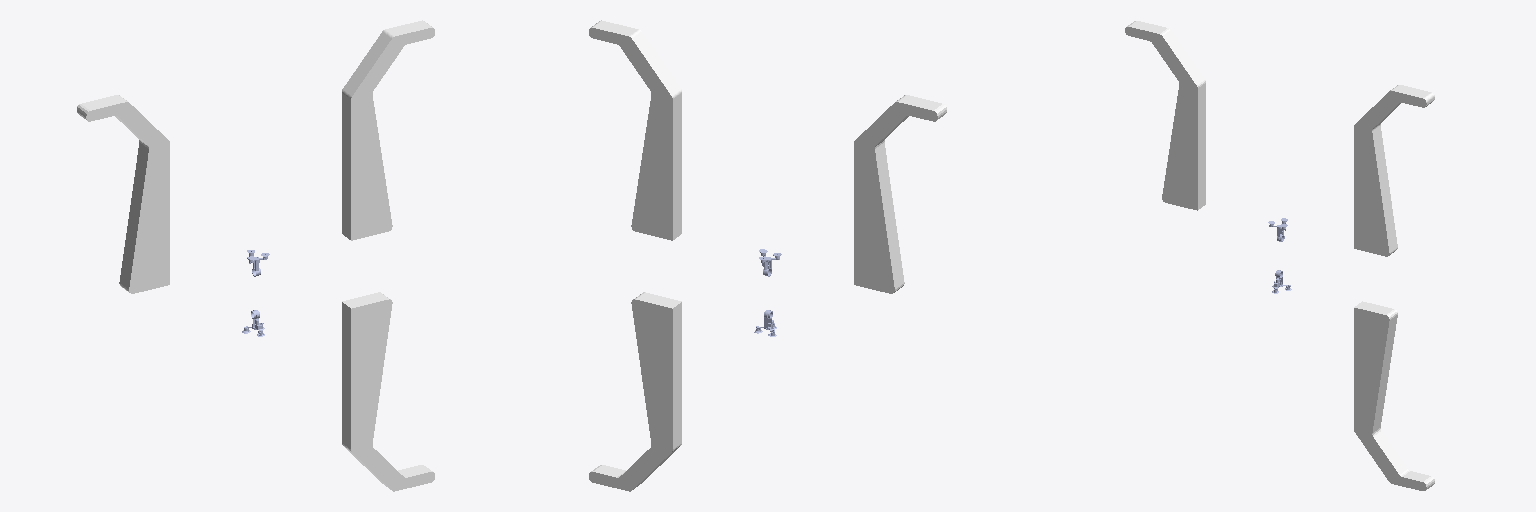
robot.urdf — bigmama0412fine:
<?xml version="1.0" encoding="utf-8"?>
<!-- This URDF was automatically created by SolidWorks to URDF Exporter! Originally created by [author] ([email redacted]) 
     Commit Version: 1.6.0-1-g15f4949  Build Version: 1.6.7594.29634
     For more information, please see http://wiki.ros.org/sw_urdf_exporter -->
<robot
  name="bigmama0412fine">
  <link
    name="Link_0">
    <inertial>
      <origin
        xyz="-0.00331014697034372 -0.00812414737391864 0.0246252656256447"
        rpy="0 0 0" />
      <mass
        value="0.882103386566752" />
      <inertia
        ixx="0.00152711161264088"
        ixy="-1.29472290139739E-05"
        ixz="1.42354792103917E-05"
        iyy="0.00147372994335158"
        iyz="-7.34228051197537E-06"
        izz="0.0010672817308026" />
    </inertial>
    <visual>
      <origin
        xyz="0 0 0"
        rpy="0 0 0" />
      <geometry>
        <mesh
          filename="package://bigmama0412fine/meshes/Link_0.STL" />
      </geometry>
      <material
        name="">
        <color
          rgba="0.792156862745098 0.819607843137255 0.933333333333333 1" />
      </material>
    </visual>
    <collision>
      <origin
        xyz="0 0 0"
        rpy="0 0 0" />
      <geometry>
        <mesh
          filename="package://bigmama0412fine/meshes/Link_0.STL" />
      </geometry>
    </collision>
  </link>
  <link
    name="Link_1">
    <inertial>
      <origin
        xyz="-3.33066907387547E-16 0.12 0.0148133941875552"
        rpy="0 0 0" />
      <mass
        value="0.282384693513862" />
      <inertia
        ixx="0.00274447139440248"
        ixy="2.8212818181065E-20"
        ixz="-6.61754350388435E-21"
        iyy="0.000195078787164715"
        iyz="1.80467643589409E-20"
        izz="0.00291591183814071" />
    </inertial>
    <visual>
      <origin
        xyz="0 0 0"
        rpy="0 0 0" />
      <geometry>
        <mesh
          filename="package://bigmama0412fine/meshes/Link_1.STL" />
      </geometry>
      <material
        name="">
        <color
          rgba="0.792156862745098 0.819607843137255 0.933333333333333 1" />
      </material>
    </visual>
    <collision>
      <origin
        xyz="0 0 0"
        rpy="0 0 0" />
      <geometry>
        <mesh
          filename="package://bigmama0412fine/meshes/Link_1.STL" />
      </geometry>
    </collision>
  </link>
  <joint
    name="Joint_1"
    type="revolute">
    <origin
      xyz="0.0220000000000014 0 0.155"
      rpy="1.5707963267949 0 1.5707963267949" />
    <parent
      link="Link_0" />
    <child
      link="Link_1" />
    <axis
      xyz="0 0 -1" />
    <limit
      lower="-3.14"
      upper="3.14"
      effort="5000"
      velocity="0.05" />
  </joint>
  <link
    name="Link_2">
    <inertial>
      <origin
        xyz="5.55111512312578E-15 0.0981842440812921 -0.0518979671215241"
        rpy="0 0 0" />
      <mass
        value="0.345163663974144" />
      <inertia
        ixx="0.0036331910417201"
        ixy="3.25414516732449E-18"
        ixz="-4.51848640048542E-19"
        iyy="0.000344054038167575"
        iyz="0.000241150545790953"
        izz="0.00379142507539424" />
    </inertial>
    <visual>
      <origin
        xyz="0 0 0"
        rpy="0 0 0" />
      <geometry>
        <mesh
          filename="package://bigmama0412fine/meshes/Link_2.STL" />
      </geometry>
      <material
        name="">
        <color
          rgba="0.792156862745098 0.819607843137255 0.933333333333333 1" />
      </material>
    </visual>
    <collision>
      <origin
        xyz="0 0 0"
        rpy="0 0 0" />
      <geometry>
        <mesh
          filename="package://bigmama0412fine/meshes/Link_2.STL" />
      </geometry>
    </collision>
  </link>
  <joint
    name="Joint_2"
    type="revolute">
    <origin
      xyz="0 0.239999999999988 0"
      rpy="0 0 0" />
    <parent
      link="Link_1" />
    <child
      link="Link_2" />
    <axis
      xyz="0 0 -1" />
    <limit
      lower="-3.14"
      upper="3.14"
      effort="5000"
      velocity="0.05" />
  </joint>
  <link
    name="Link_3">
    <inertial>
      <origin
        xyz="0.0182556388647204 0.077688167435717 0.0292189539257218"
        rpy="0 0 0" />
      <mass
        value="0.405243678629155" />
      <inertia
        ixx="0.0010066908609712"
        ixy="-1.02117053661611E-05"
        ixz="-1.29579969608816E-05"
        iyy="0.000277409370252715"
        iyz="1.42352093688464E-05"
        izz="0.00110247571714619" />
    </inertial>
    <visual>
      <origin
        xyz="0 0 0"
        rpy="0 0 0" />
      <geometry>
        <mesh
          filename="package://bigmama0412fine/meshes/Link_3.STL" />
      </geometry>
      <material
        name="">
        <color
          rgba="0.792156862745098 0.819607843137255 0.933333333333333 1" />
      </material>
    </visual>
    <collision>
      <origin
        xyz="0 0 0"
        rpy="0 0 0" />
      <geometry>
        <mesh
          filename="package://bigmama0412fine/meshes/Link_3.STL" />
      </geometry>
    </collision>
  </link>
  <joint
    name="Joint_3"
    type="revolute">
    <origin
      xyz="0 0.24 -0.0442"
      rpy="0 0 0" />
    <parent
      link="Link_2" />
    <child
      link="Link_3" />
    <axis
      xyz="0 0 1" />
    <limit
      lower="-3.14"
      upper="3.14"
      effort="5000"
      velocity="0.05" />
  </joint>
  <link
    name="Link_4">
    <inertial>
      <origin
        xyz="-0.000485846004261159 -1.30393305380477E-05 -0.0301760183585275"
        rpy="0 0 0" />
      <mass
        value="0.476785315675627" />
      <inertia
        ixx="0.000466689569560392"
        ixy="1.3500497583252E-08"
        ixz="-2.85557114289688E-06"
        iyy="0.000424232881435247"
        iyz="7.13603896349437E-09"
        izz="0.000789818306013661" />
    </inertial>
    <visual>
      <origin
        xyz="0 0 0"
        rpy="0 0 0" />
      <geometry>
        <mesh
          filename="package://bigmama0412fine/meshes/Link_4.STL" />
      </geometry>
      <material
        name="">
        <color
          rgba="0.792156862745098 0.819607843137255 0.933333333333333 1" />
      </material>
    </visual>
    <collision>
      <origin
        xyz="0 0 0"
        rpy="0 0 0" />
      <geometry>
        <mesh
          filename="package://bigmama0412fine/meshes/Link_4.STL" />
      </geometry>
    </collision>
  </link>
  <joint
    name="Joint_4"
    type="revolute">
    <origin
      xyz="0 0.145 0.022"
      rpy="1.5708 0 0" />
    <parent
      link="Link_3" />
    <child
      link="Link_4" />
    <axis
      xyz="0 0 -1" />
    <limit
      lower="0"
      upper="1E-05"
      effort="1E-05"
      velocity="1E-05" />
  </joint>
  <link
    name="Link_innerfinger">
    <inertial>
      <origin
        xyz="-0.257092561747861 1.00562275325705 -8.99280649946377E-15"
        rpy="0 0 0" />
      <mass
        value="148.376540454963" />
      <inertia
        ixx="65.6418454273906"
        ixy="8.28672866655962"
        ixz="4.27245870960553E-17"
        iyy="6.0594973627601"
        iyz="5.43667175399197E-16"
        izz="70.7121658537843" />
    </inertial>
    <visual>
      <origin
        xyz="0 0 0"
        rpy="0 0 0" />
      <geometry>
        <mesh
          filename="package://bigmama0412fine/meshes/Link_innerfinger.STL" />
      </geometry>
      <material
        name="">
        <color
          rgba="1 1 1 1" />
      </material>
    </visual>
    <collision>
      <origin
        xyz="0 0 0"
        rpy="0 0 0" />
      <geometry>
        <mesh
          filename="package://bigmama0412fine/meshes/Link_innerfinger.STL" />
      </geometry>
    </collision>
  </link>
  <joint
    name="Joint_innerfinger"
    type="prismatic">
    <origin
      xyz="0 -1.0755 0"
      rpy="-1.5707963267949 0 1.5707963267949" />
    <parent
      link="Link_4" />
    <child
      link="Link_innerfinger" />
    <axis
      xyz="1 0 0" />
    <limit
      lower="-1"
      upper="1"
      effort="500"
      velocity="0.05" />
  </joint>
  <link
    name="Link_exterfinger">
    <inertial>
      <origin
        xyz="0.25709 1.0056 -7.7716E-15"
        rpy="0 0 0" />
      <mass
        value="148.38" />
      <inertia
        ixx="65.642"
        ixy="-8.2867"
        ixz="5.5127E-14"
        iyy="6.0595"
        iyz="4.2609E-13"
        izz="70.712" />
    </inertial>
    <visual>
      <origin
        xyz="0 0 0"
        rpy="0 0 0" />
      <geometry>
        <mesh
          filename="package://bigmama0412fine/meshes/Link_exterfinger.STL" />
      </geometry>
      <material
        name="">
        <color
          rgba="1 1 1 1" />
      </material>
    </visual>
    <collision>
      <origin
        xyz="0 0 0"
        rpy="0 0 0" />
      <geometry>
        <mesh
          filename="package://bigmama0412fine/meshes/Link_exterfinger.STL" />
      </geometry>
    </collision>
  </link>
  <joint
    name="Joint_exterfinger"
    type="prismatic">
    <origin
      xyz="0 1.0755 0"
      rpy="-1.5708 0 1.5708" />
    <parent
      link="Link_4" />
    <child
      link="Link_exterfinger" />
    <axis
      xyz="1 0 0" />
    <limit
      lower="-1"
      upper="1"
      effort="500"
      velocity="0.05" />
  </joint>
  <link
    name="Link_baseout">
    <inertial>
      <origin
        xyz="-0.257092561747865 -1.00562275325706 5.55111512312578E-15"
        rpy="0 0 0" />
      <mass
        value="148.376540454963" />
      <inertia
        ixx="65.6418454273908"
        ixy="-8.28672866655922"
        ixz="3.55136239042023E-14"
        iyy="6.05949736276"
        iyz="5.81200196882347E-14"
        izz="70.7121658537844" />
    </inertial>
    <visual>
      <origin
        xyz="0 0 0"
        rpy="0 0 0" />
      <geometry>
        <mesh
          filename="package://bigmama0412fine/meshes/Link_baseout.STL" />
      </geometry>
      <material
        name="">
        <color
          rgba="1 1 1 1" />
      </material>
    </visual>
    <collision>
      <origin
        xyz="0 0 0"
        rpy="0 0 0" />
      <geometry>
        <mesh
          filename="package://bigmama0412fine/meshes/Link_baseout.STL" />
      </geometry>
    </collision>
  </link>
  <joint
    name="Joint_baseout"
    type="prismatic">
    <origin
      xyz="-1.0755 0 0.01"
      rpy="1.5708 0 0" />
    <parent
      link="Link_0" />
    <child
      link="Link_baseout" />
    <axis
      xyz="1 0 0" />
    <limit
      lower="-1"
      upper="1"
      effort="500"
      velocity="0.05" />
  </joint>
  <link
    name="Link_basein">
    <inertial>
      <origin
        xyz="0 0 0"
        rpy="0 0 0" />
      <mass
        value="0" />
      <inertia
        ixx="0"
        ixy="0"
        ixz="0"
        iyy="0"
        iyz="0"
        izz="0" />
    </inertial>
    <visual>
      <origin
        xyz="0 0 0"
        rpy="0 0 0" />
      <geometry>
        <mesh
          filename="package://bigmama0412fine/meshes/Link_basein.STL" />
      </geometry>
      <material
        name="">
        <color
          rgba="1 1 1 1" />
      </material>
    </visual>
    <collision>
      <origin
        xyz="0 0 0"
        rpy="0 0 0" />
      <geometry>
        <mesh
          filename="package://bigmama0412fine/meshes/Link_basein.STL" />
      </geometry>
    </collision>
  </link>
  <joint
    name="Joint_basein"
    type="prismatic">
    <origin
      xyz="1.0755 0 0.01"
      rpy="1.5708 0 0" />
    <parent
      link="Link_0" />
    <child
      link="Link_basein" />
    <axis
      xyz="1 0 0" />
    <limit
      lower="-1"
      upper="1"
      effort="500"
      velocity="0.05" />
  </joint>
</robot>

--- What the picture shows (computed from the rendered views, not written in the file) ---
The picture shows the robot from 3 angles, left to right: view 1: azimuth 30°, elevation 25°; view 2: azimuth 150°, elevation 25°; view 3: azimuth 330°, elevation 25°; orthographic projection.
Robot: bigmama0412fine — 9 links, 8 joints (4 revolute, 4 prismatic); root link Link_0; default pose: every joint at zero.
Links seen in each view (by area): view 1: Link_exterfinger, Link_innerfinger, Link_basein; view 2: Link_exterfinger, Link_innerfinger, Link_basein; view 3: Link_innerfinger, Link_basein, Link_exterfinger.
Boxes of the visible links, <box> form: Link_exterfinger: <box>342,20,434,240</box>; Link_innerfinger: <box>77,95,169,293</box>; Link_basein: <box>342,292,434,491</box>; Link_exterfinger: <box>589,20,681,240</box>; Link_innerfinger: <box>854,95,946,293</box>; Link_basein: <box>589,292,681,491</box>; Link_innerfinger: <box>1125,21,1205,210</box>; Link_basein: <box>1354,301,1434,490</box>; Link_exterfinger: <box>1354,85,1434,256</box>.
Size in the robot's own frame: 4.15 by 0.289 by 5.17 metres.
Meshes: 9 distinct files referenced, 6 mesh visuals loaded (6 binary STL); not drawn: 3 (reference not matched to a file when rendering).
